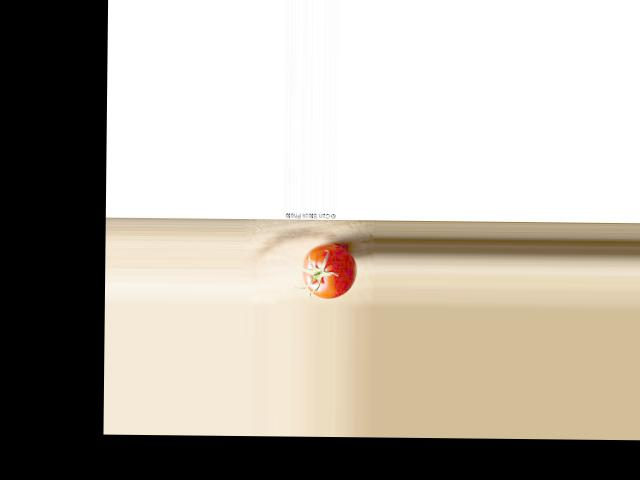tomato: (301, 243, 356, 297)
